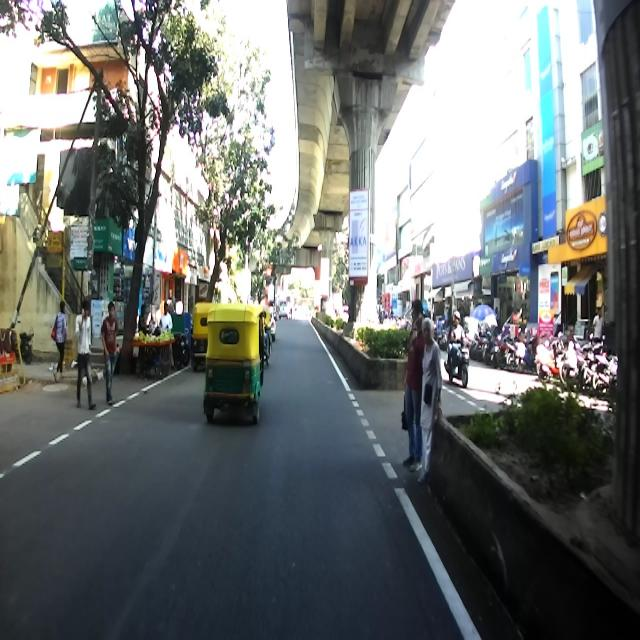autorickshaw: (197, 304, 261, 428)
scooter: (446, 312, 471, 384)
